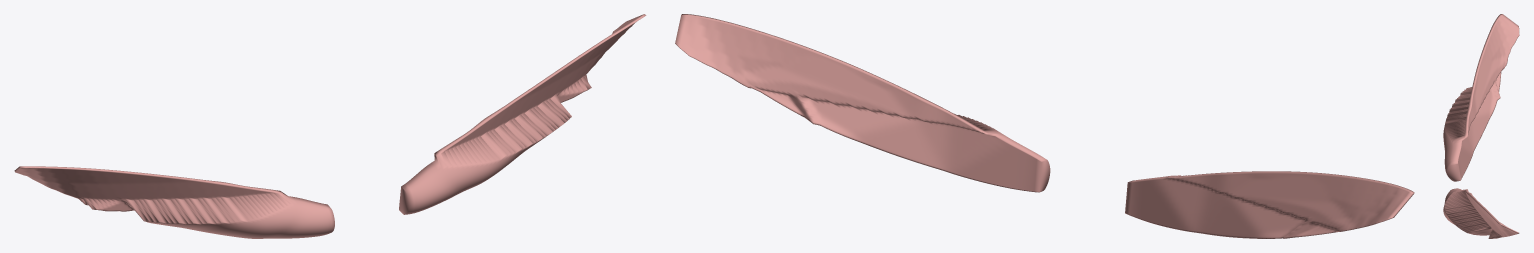
Rendered from corrugator.glb.
3 views of the same model, side by side, from view 1: azimuth 30°, elevation 25°; view 2: azimuth 150°, elevation 25°; view 3: azimuth 270°, elevation 25° (orthographic). The views are drawn at different scales.
Parts seen in each view (by area): view 1: corrugator_R, corrugator_L; view 2: corrugator_L, corrugator_R; view 3: corrugator_R, corrugator_L.
Part boxes in pixels (<box>): corrugator_R: <box>14,166,334,238</box>; corrugator_L: <box>399,14,646,214</box>; corrugator_L: <box>675,14,1050,192</box>; corrugator_R: <box>1125,171,1414,238</box>; corrugator_R: <box>1443,14,1519,181</box>; corrugator_L: <box>1443,188,1519,238</box>.
Size of the model in its own units: 0.0451 by 0.00748 by 0.00687.
